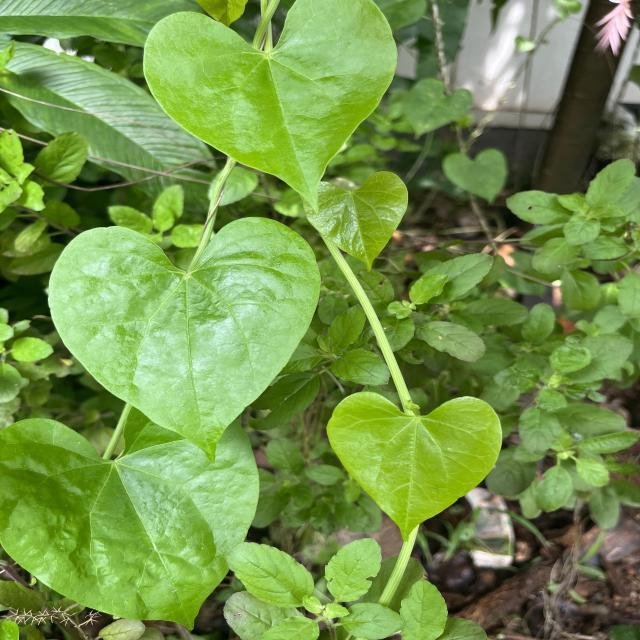Tinospora cordifolia: (44, 212, 324, 467), (137, 0, 406, 218), (0, 415, 263, 634), (322, 388, 506, 546)
